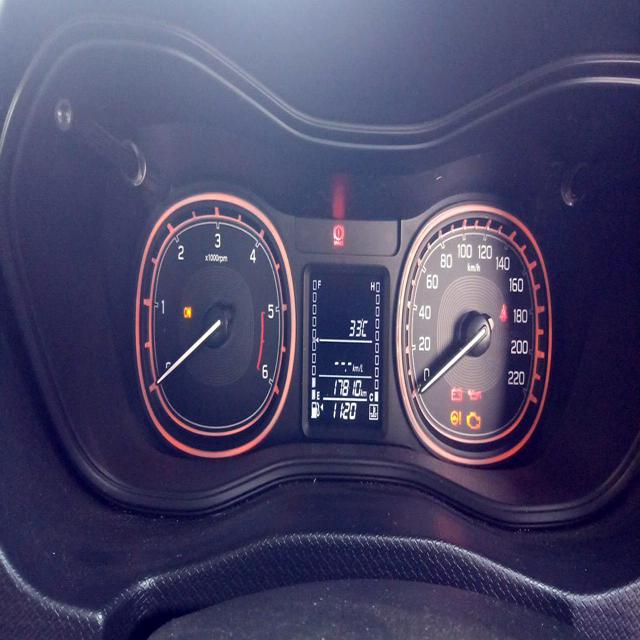odometer: (332, 377, 361, 399)
